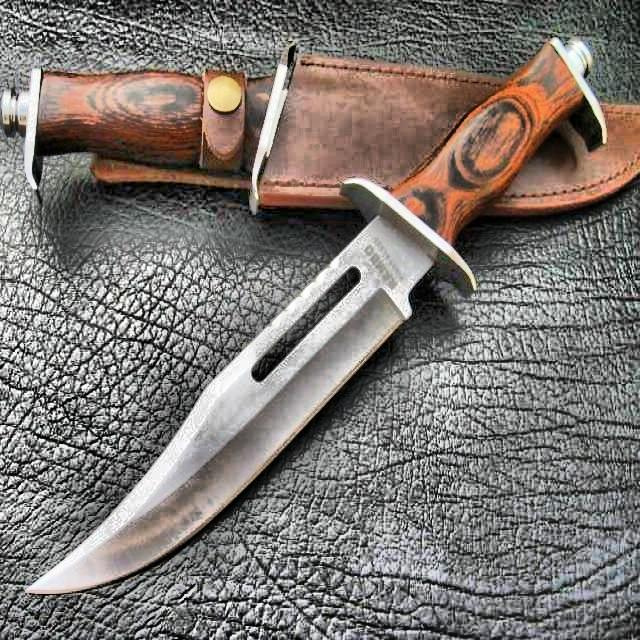knife: (27, 39, 606, 592), (6, 46, 637, 216)
